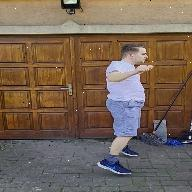jumping_jacks: (91, 41, 157, 178)
